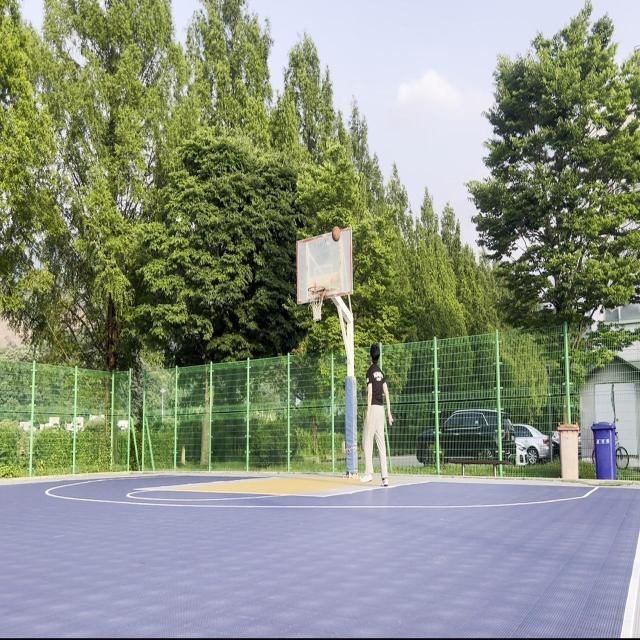basketball: (332, 225, 341, 242)
hoop: (308, 285, 326, 322)
